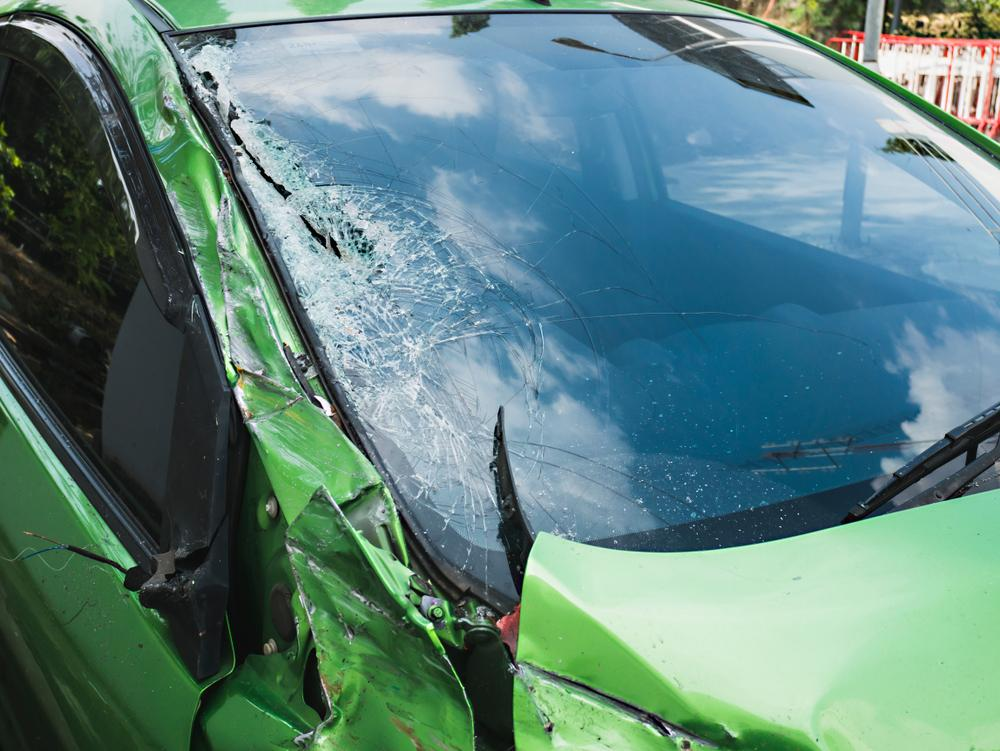dent: (122, 49, 370, 496), (513, 572, 827, 751), (289, 494, 475, 738)
glass shatter: (169, 14, 1000, 604)
